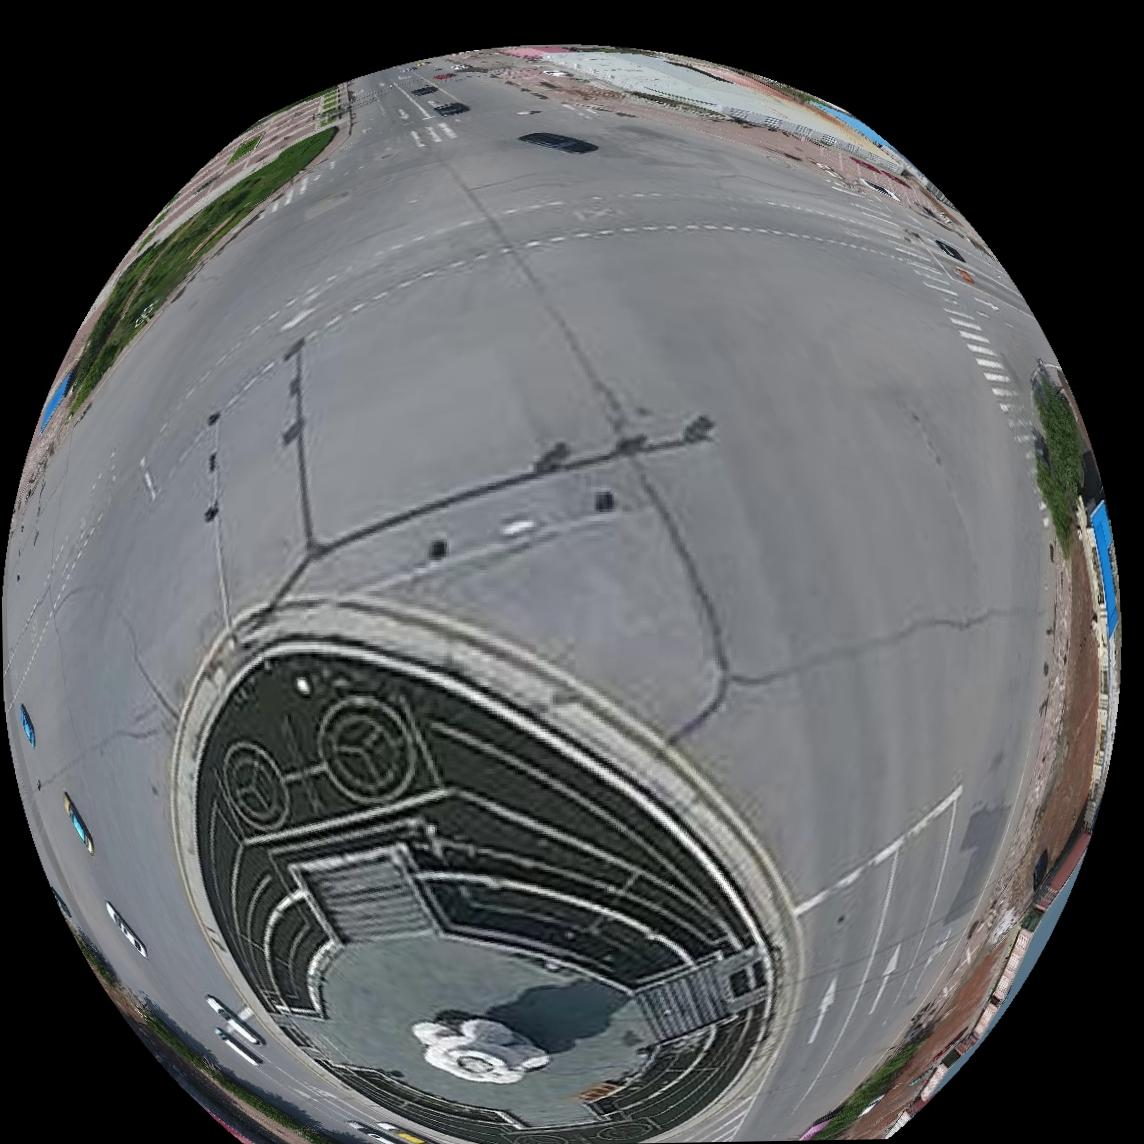building: (886, 829, 1091, 1139), (1077, 497, 1118, 833)
cars: (203, 995, 262, 1045), (102, 901, 145, 960), (59, 792, 92, 856), (212, 1028, 260, 1067), (518, 131, 596, 152), (14, 704, 32, 748)
trees: (57, 127, 334, 414), (1033, 372, 1084, 558)
